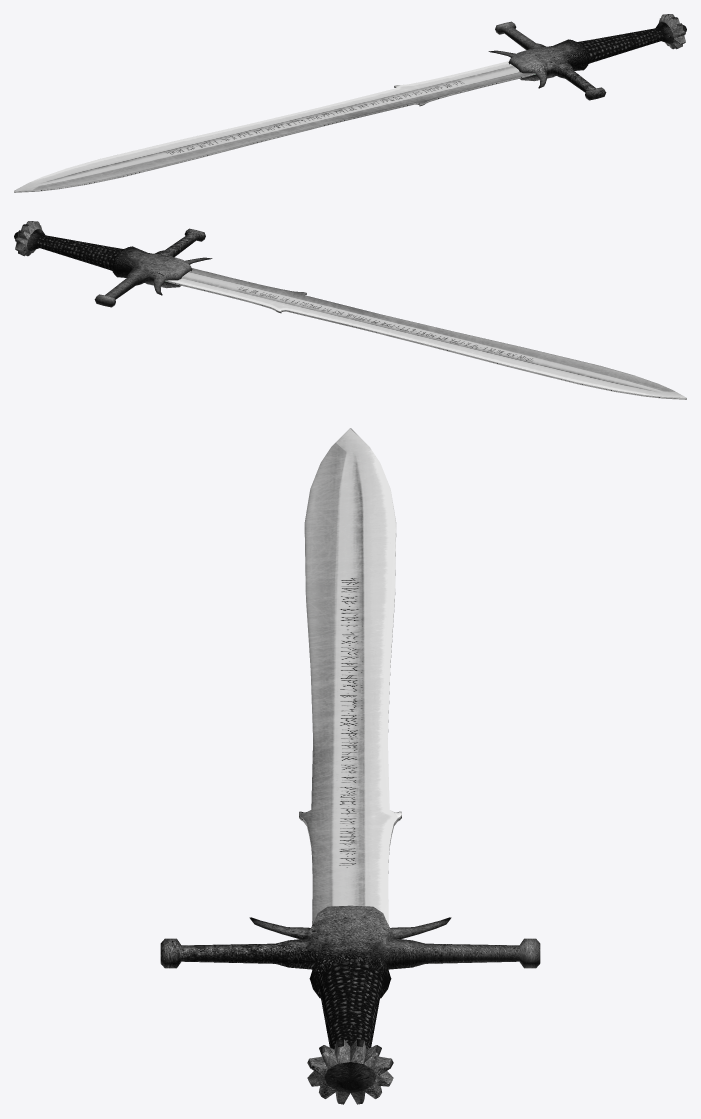
Rendered from sword.fbx.
The picture shows the model from 3 angles, top to bottom: view 1: azimuth 30°, elevation 25°; view 2: azimuth 150°, elevation 25°; view 3: azimuth 270°, elevation 25°; orthographic projection. The views are drawn at different scales.
Parts seen in each view (by area): view 1: polySurface32; view 2: polySurface32; view 3: polySurface32.
Boxes of the visible parts, bbox=[...] form: polySurface32: bbox=[14, 14, 686, 192]; polySurface32: bbox=[14, 221, 686, 399]; polySurface32: bbox=[160, 428, 540, 1104].
Size of the model in its own units: 1.03 by 0.0453 by 0.2519.
